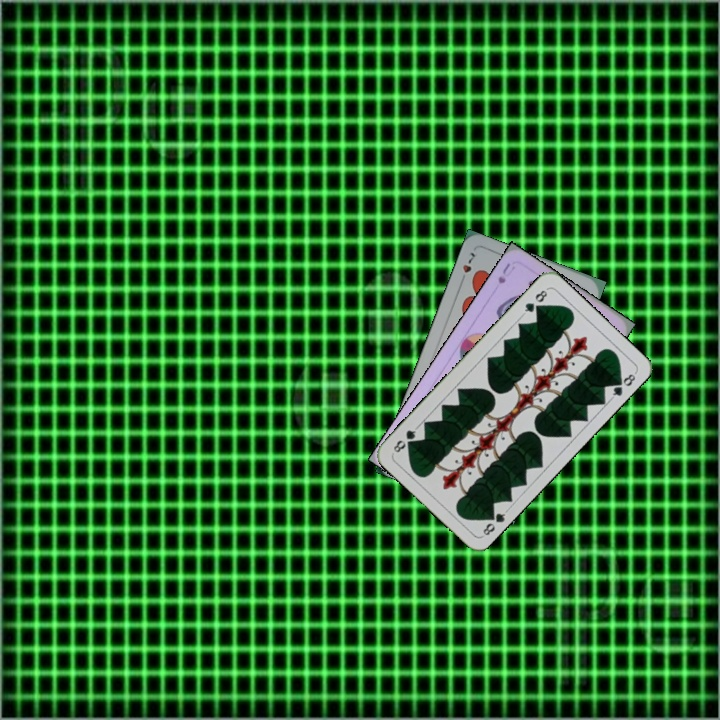G8: (519, 285, 550, 318), (479, 506, 510, 539)
H7: (457, 248, 478, 286)
SU: (494, 259, 518, 286)
